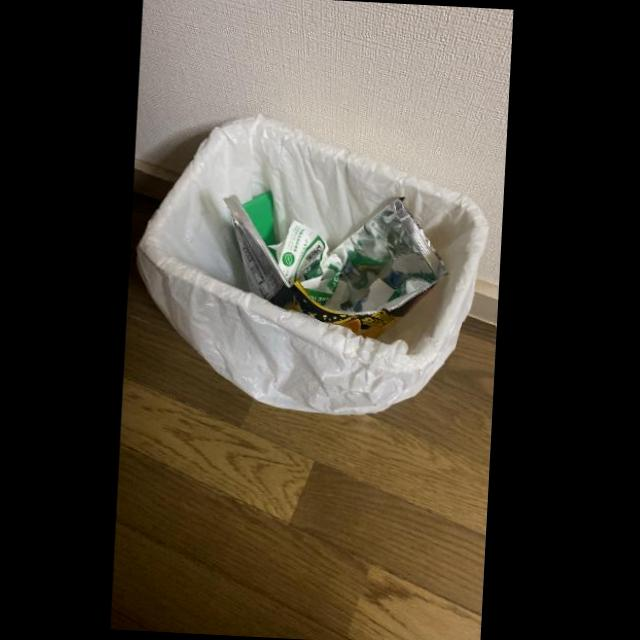bao_bi_thuc_pham: (224, 195, 446, 335)
carton: (242, 190, 278, 263), (353, 278, 400, 312)
giay: (268, 220, 343, 305)
